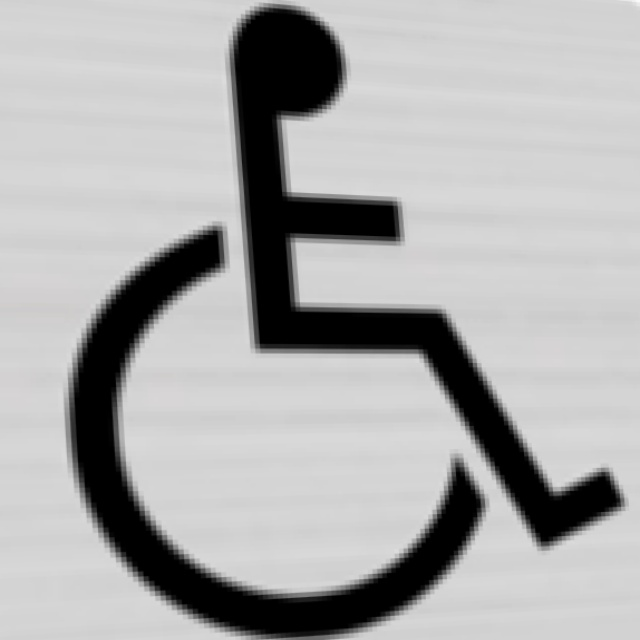ISA: (40, 0, 640, 640)
